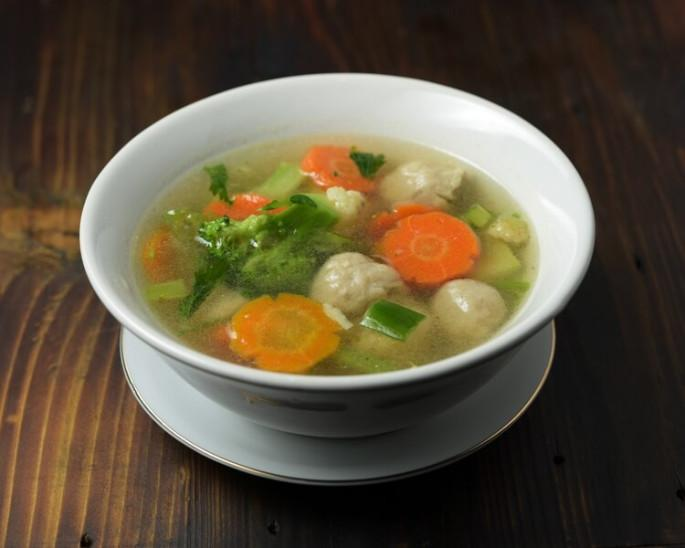buah_sayur_lainnya: (233, 223, 308, 281)
buah_sayur_vitA: (249, 303, 315, 362), (400, 219, 464, 272)
